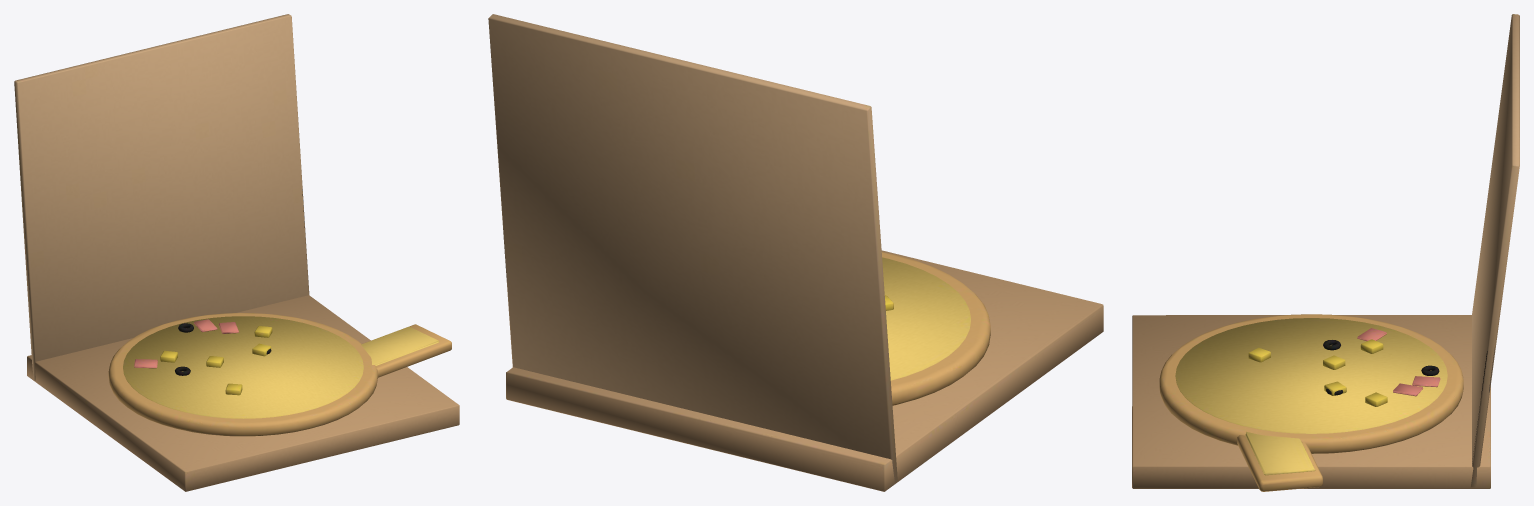
File: keepsake-pizza-box.glb
3 views of the same model, side by side, from view 1: azimuth 30°, elevation 25°; view 2: azimuth 150°, elevation 25°; view 3: azimuth 270°, elevation 25° (orthographic). The views are drawn at different scales.
Parts seen in each view (by area): view 1: keepsake-pizza-box; view 2: keepsake-pizza-box; view 3: keepsake-pizza-box.
Part boxes in pixels (bbox=[...]): keepsake-pizza-box: bbox=[14, 14, 459, 491]; keepsake-pizza-box: bbox=[488, 14, 1103, 491]; keepsake-pizza-box: bbox=[1132, 14, 1519, 491].
Size of the model in its own units: 0.33 by 0.279 by 0.3022.
1 material, 1 textured.
